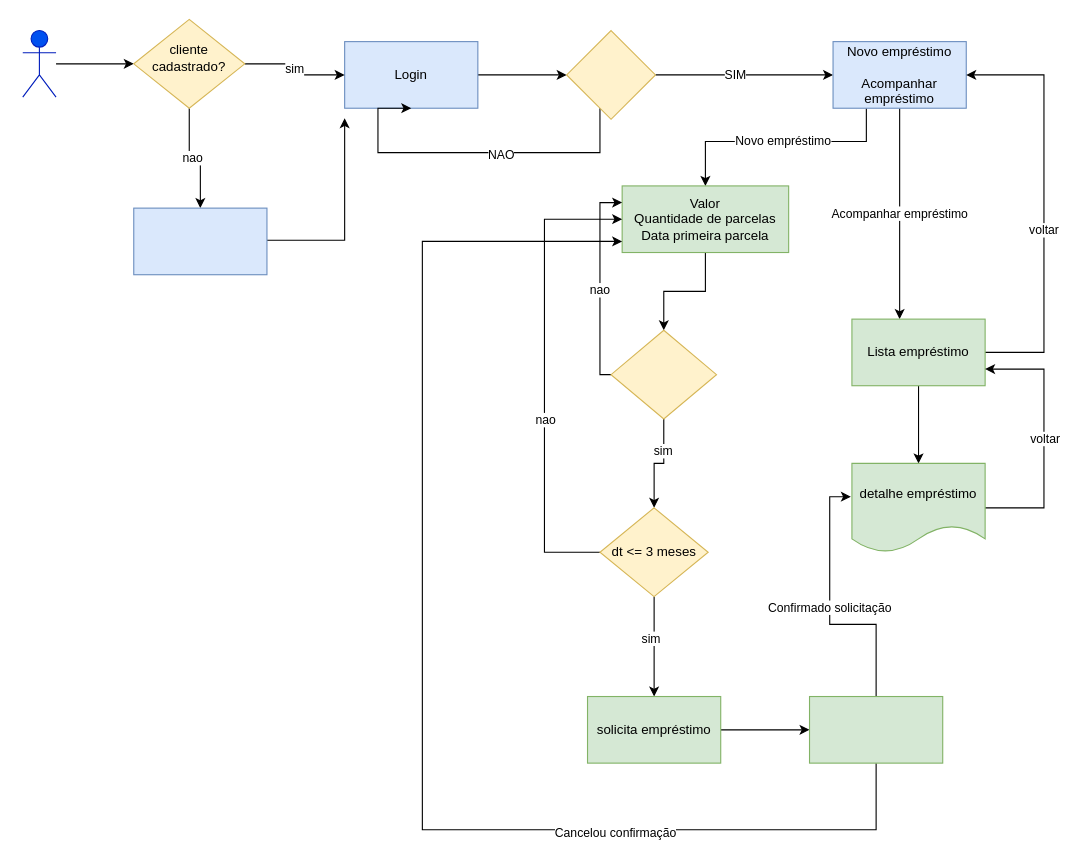
The diagram is 1079 pixels wide and 859 high, and some of its shapes have lost their labels. Here are the shapes that lost their labels. From the top down, the centre of each, then its label:
the point at 610,74: validou?
the point at 200,241: Cadastro cliente
the point at 663,374: <=60 meses
the point at 875,729: Revisar e confirmar
